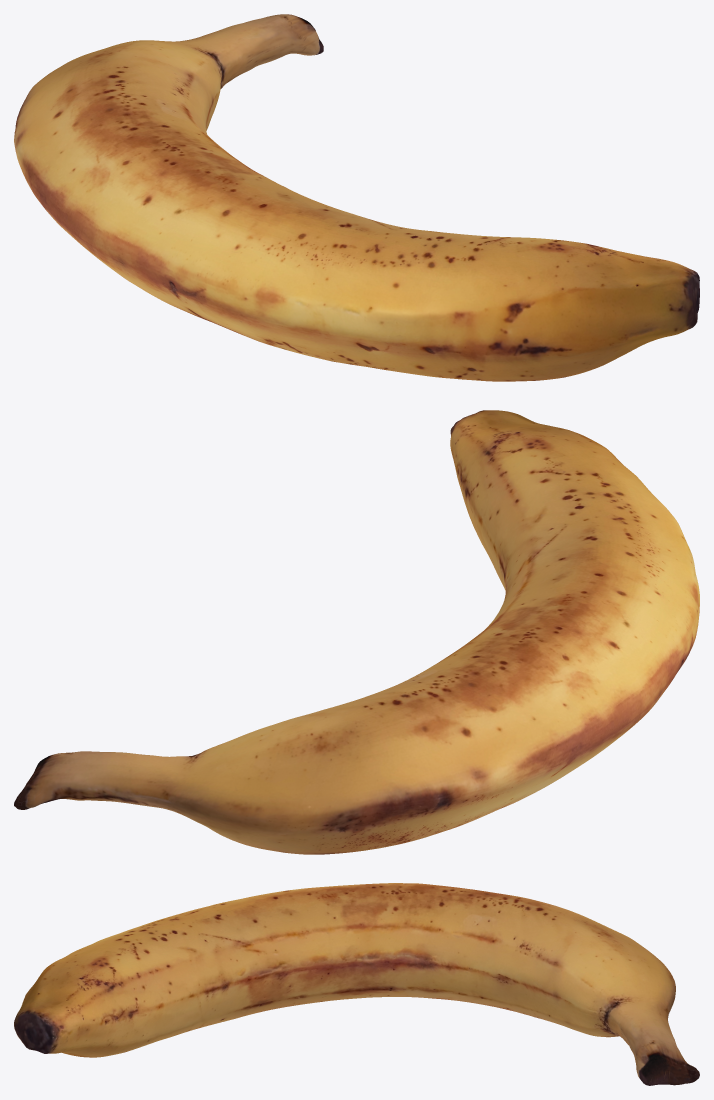
Rendered from banana_3d_scanned.glb.
The picture shows the model from 3 angles, top to bottom: view 1: azimuth 30°, elevation 25°; view 2: azimuth 150°, elevation 25°; view 3: azimuth 270°, elevation 25°; orthographic projection. The views are drawn at different scales.
Parts seen in each view (by area): view 1: banana_0; view 2: banana_0; view 3: banana_0.
Boxes of the visible parts, box(x1,y1,x2,y2) form: banana_0: box(14, 14, 699, 381); banana_0: box(14, 410, 699, 854); banana_0: box(14, 883, 699, 1085).
Bounding box in the file's own units: 1.1 × 0.3439 × 2.08.
Materials: 1 (1 with a texture image).
